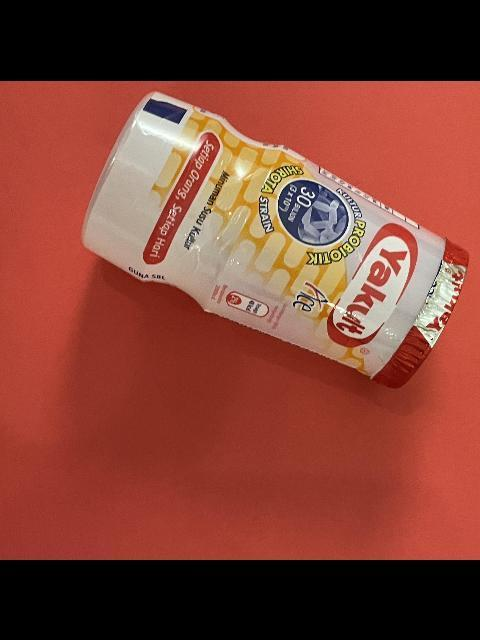plasticbottle: (78, 90, 472, 390)
